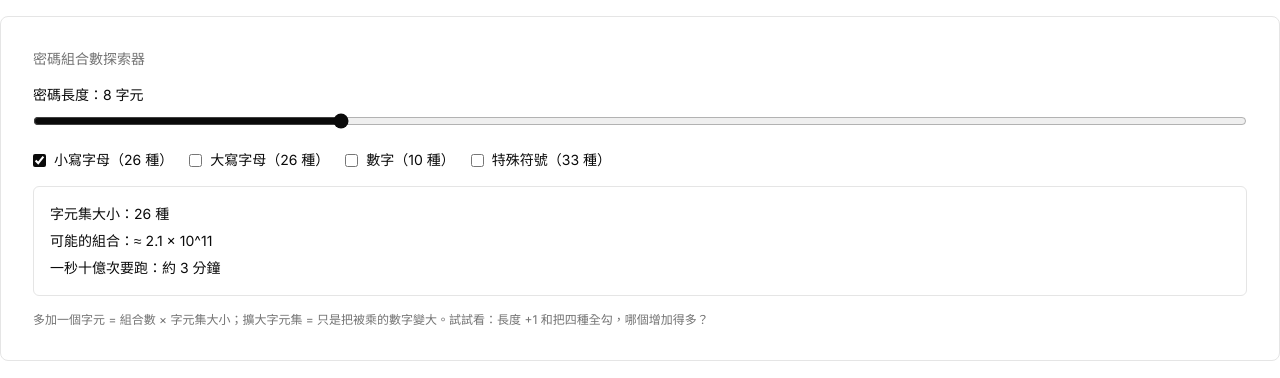
Test: PasswordEntropyExplorer › updates length label and combinations when the slider changes
Set the slider labelled "密碼長度" to "12" at (640, 121), box [33, 113, 1247, 129]
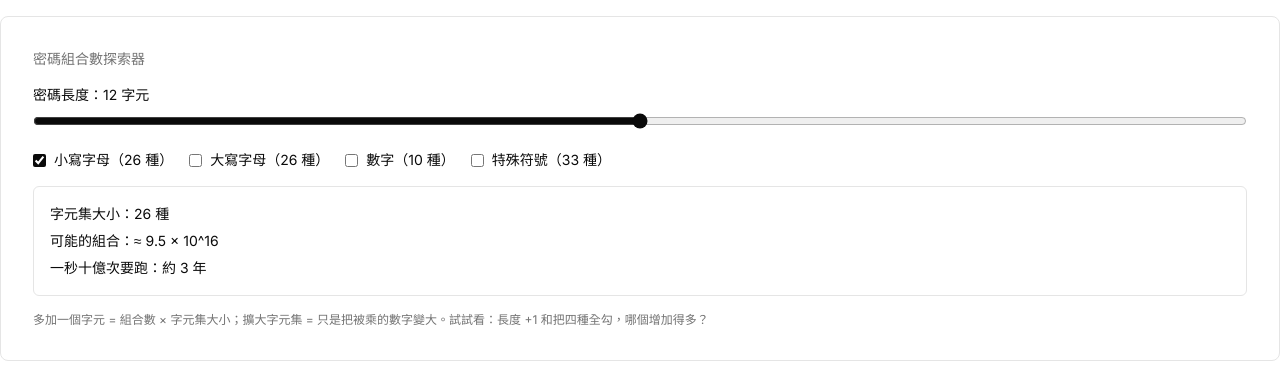
Expected: the text "可能的組合：" no longer shows "可能的組合：≈ 2.1 × 10^11"
